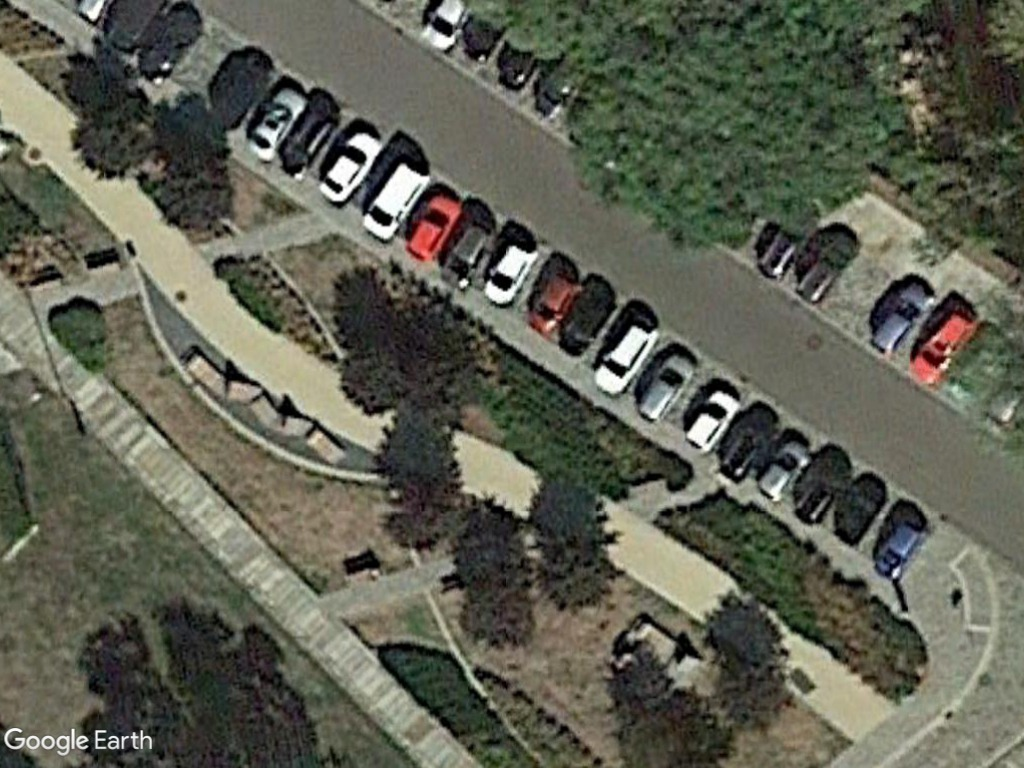car: (308, 124, 396, 208), (243, 77, 319, 165), (395, 189, 466, 263), (680, 381, 747, 458), (478, 233, 546, 308)
van: (361, 155, 437, 242), (593, 309, 662, 395)
